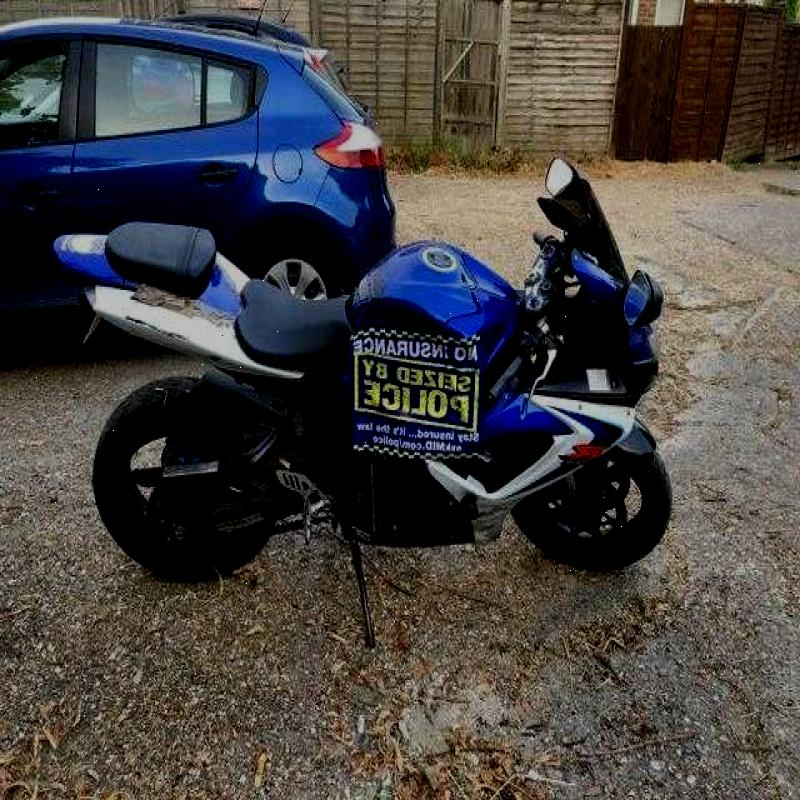bike: (54, 154, 664, 586)
